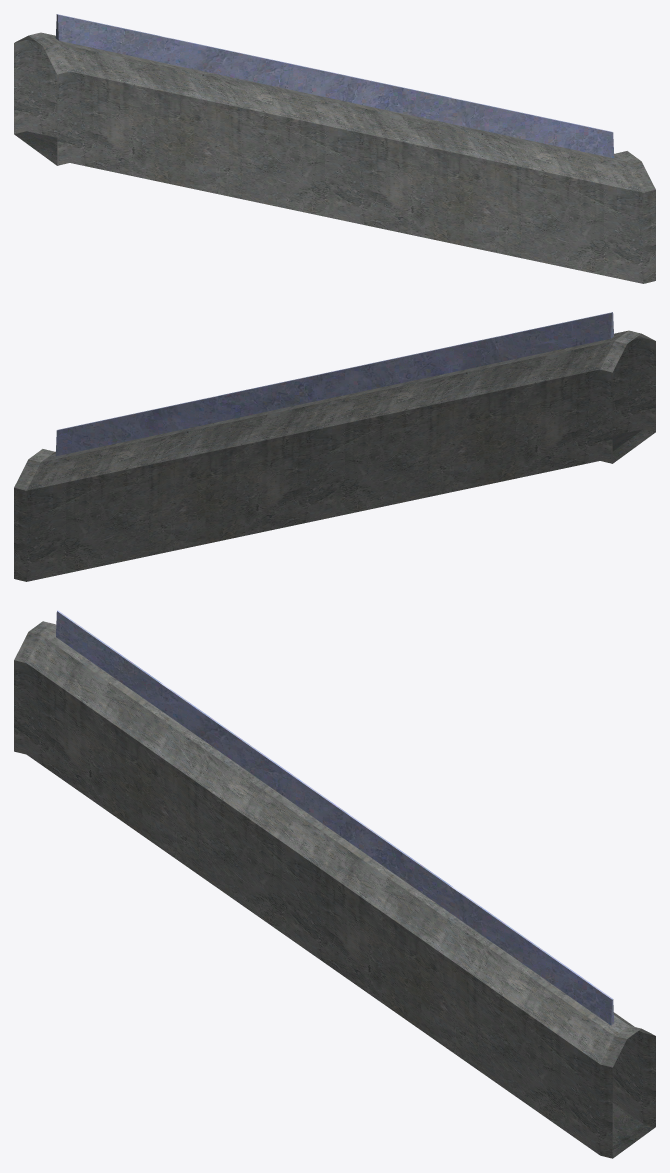
File: thm_yavn_jedi_enclave_dark_r5_ramp3_mesh.fbx
3 views of the same model, one above another, from view 1: azimuth 30°, elevation 25°; view 2: azimuth 150°, elevation 25°; view 3: azimuth 330°, elevation 25° (orthographic).
Parts seen in each view (by area): view 1: mesh_node; view 2: mesh_node; view 3: mesh_node.
Part boxes in pixels (x1,y1,x2,y2): mesh_node: [14, 14, 655, 283]; mesh_node: [14, 312, 655, 581]; mesh_node: [14, 610, 655, 1158].
Size of the model in its own units: 24 by 15 by 3.01.
